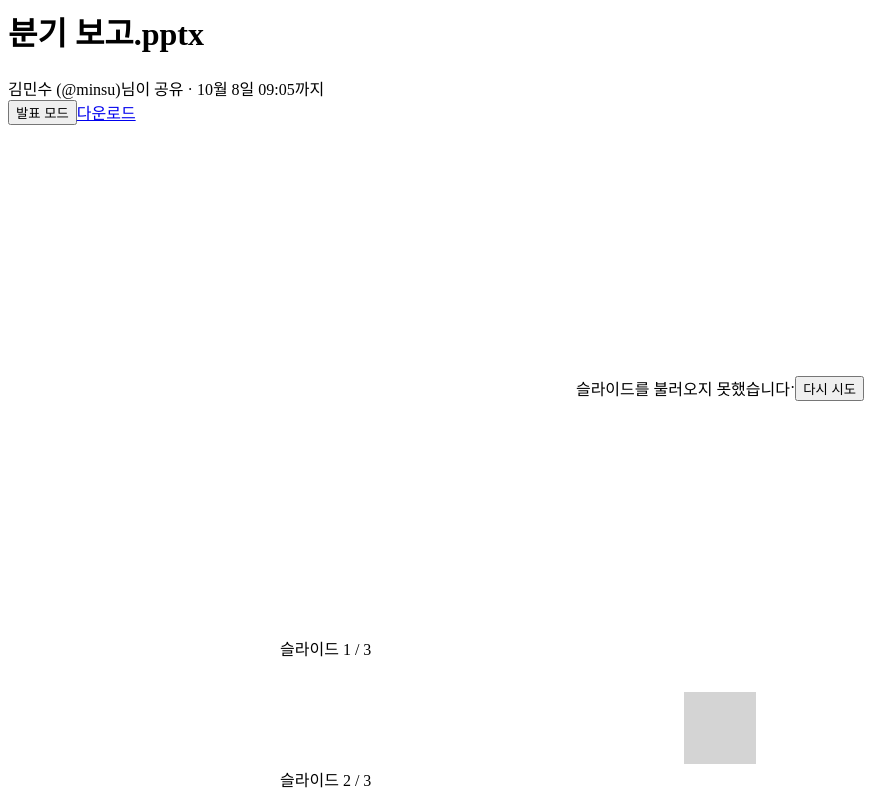
ShareView › turns into the dead-link state when a refresh finds the link revoked
Expected: the heading "분기 보고.pptx" is shown, [8, 16, 204, 52]
Click the button "다시 시도" at coordinates (830, 388), box [795, 376, 864, 401]
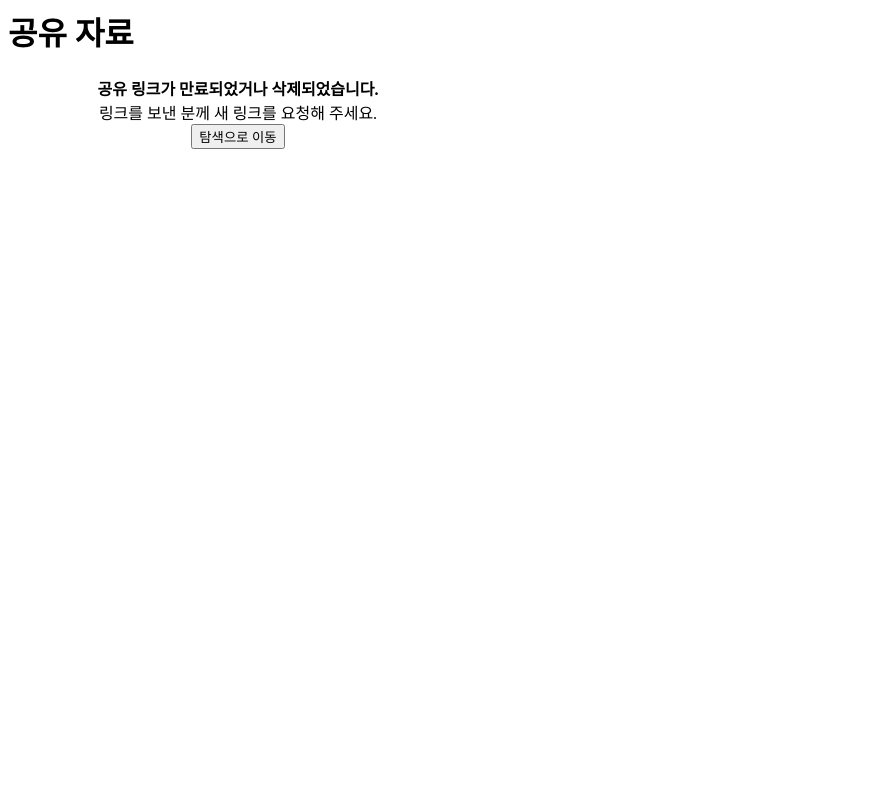
Expected: the text "공유 링크가 만료되었거나 삭제되었습니다." is shown, [98, 76, 378, 100]
